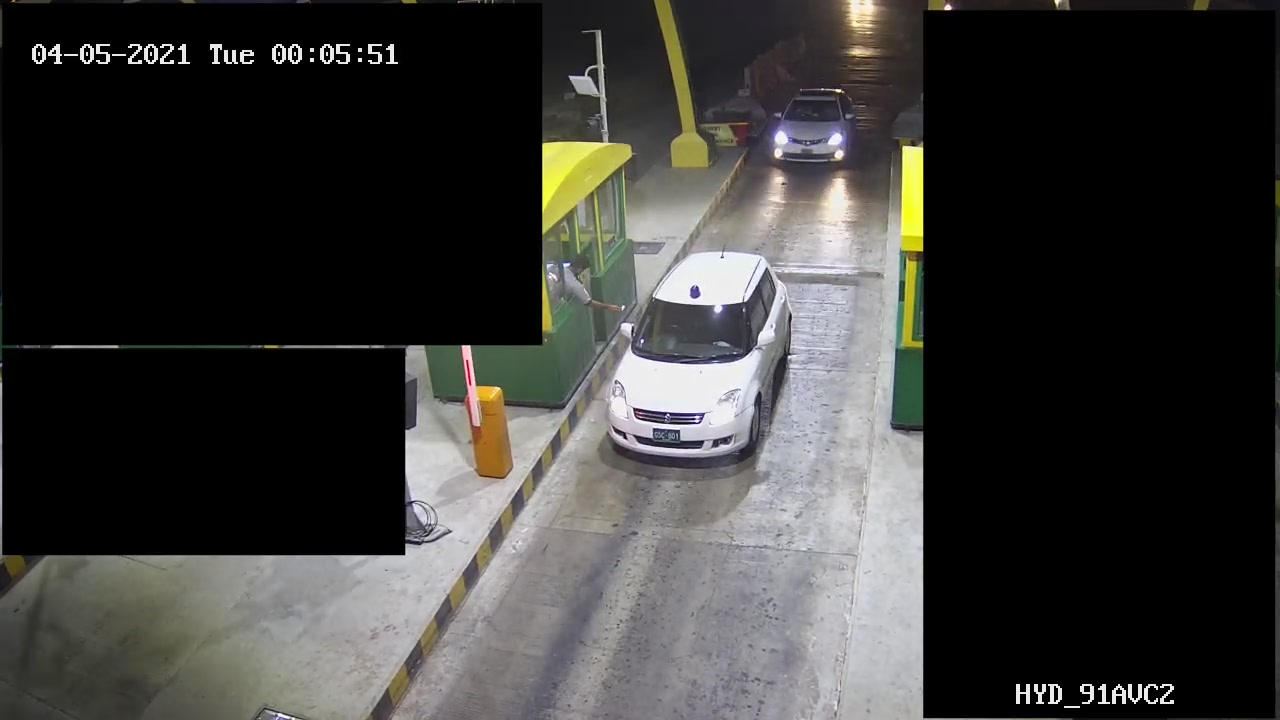F1: (606, 240, 799, 472), (762, 78, 869, 182)
